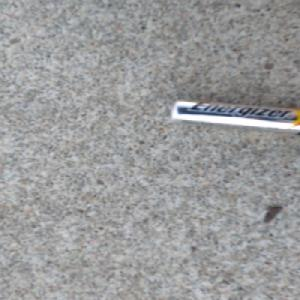Battery: (168, 99, 300, 138)
